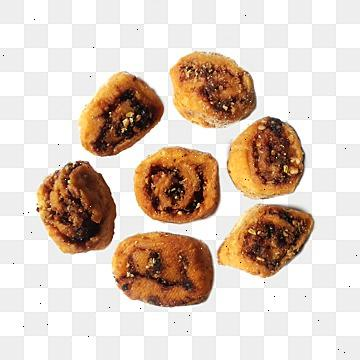bhakarwadi: (36, 48, 322, 308)
